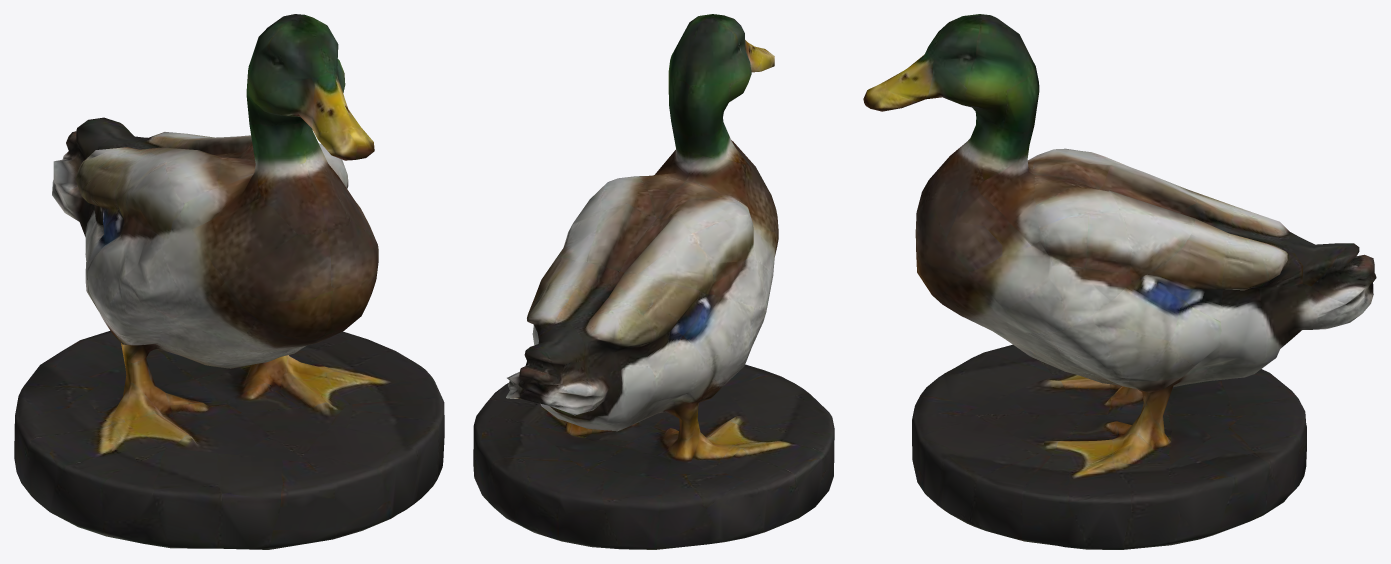
Rendered from duck.glb.
3 renders of one model, left to right at view 1: azimuth 30°, elevation 25°; view 2: azimuth 150°, elevation 25°; view 3: azimuth 270°, elevation 25°, orthographic. The views are drawn at different scales.
Size of the model in its own units: 1.53 by 1.93 by 1.98.
Materials: 1 (1 with a texture image).
